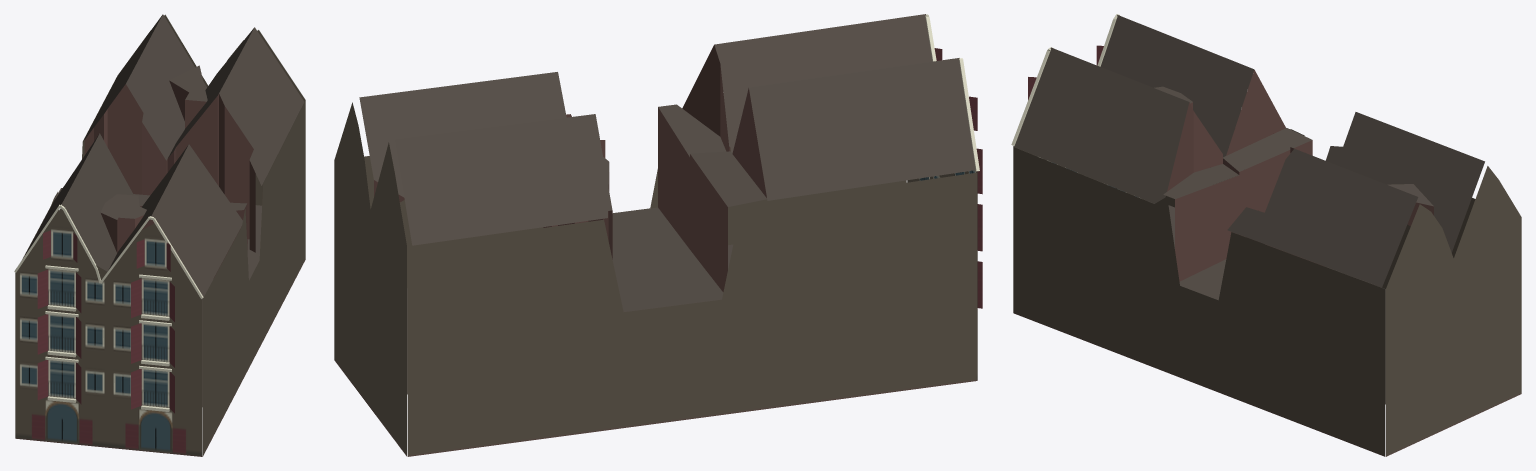
3 views of the same model, side by side, from view 1: azimuth 30°, elevation 25°; view 2: azimuth 150°, elevation 25°; view 3: azimuth 270°, elevation 25° (orthographic). The views are drawn at different scales.
Parts seen in each view (by area): view 1: 0363100012177571; view 2: 0363100012177571; view 3: 0363100012177571.
Boxes of the visible parts, x1=… form: 0363100012177571: x1=14, y1=14, x2=305, y2=456; 0363100012177571: x1=334, y1=14, x2=982, y2=456; 0363100012177571: x1=1011, y1=14, x2=1521, y2=456.
Size of the model in its own units: 27.73 by 15.68 by 28.86.
Materials: 3 (1 with a texture image).
